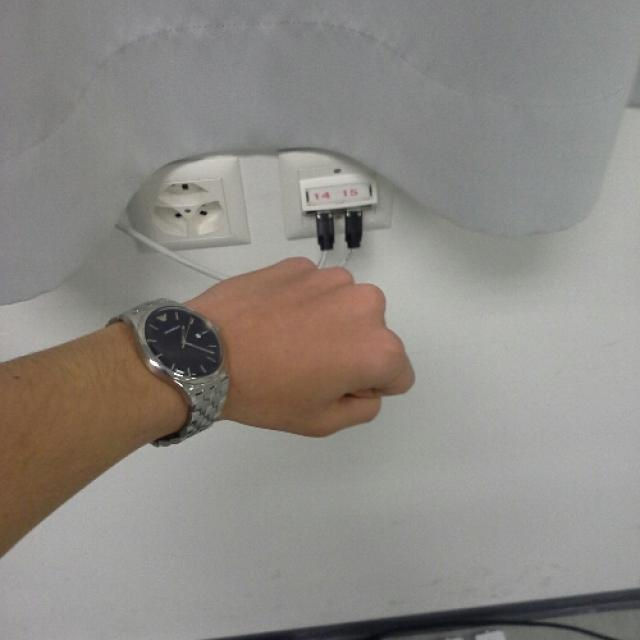fist: (222, 260, 418, 438)
